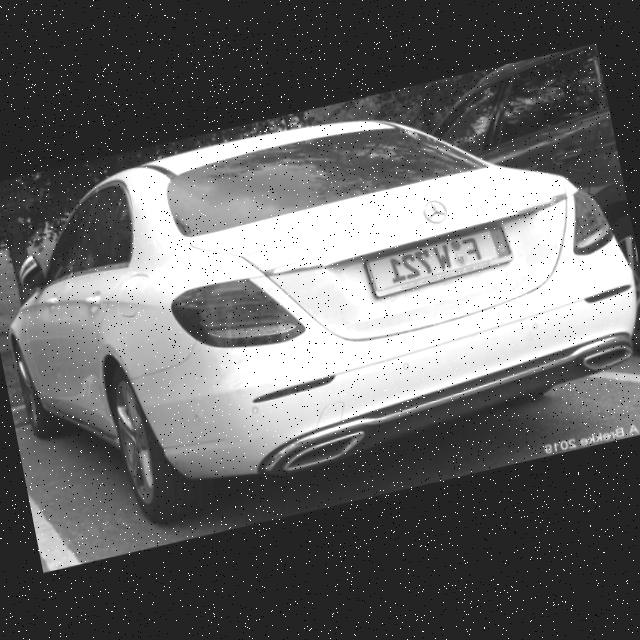license-plates: (366, 226, 513, 298)
